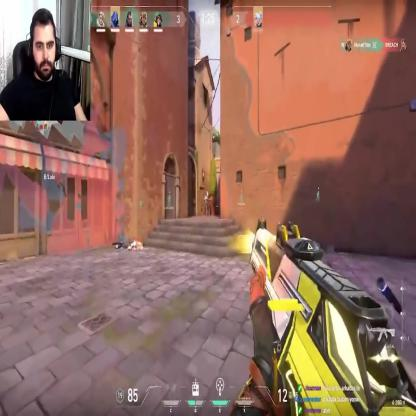enemy: (204, 191, 209, 215)
enemy_head: (206, 191, 209, 197)
